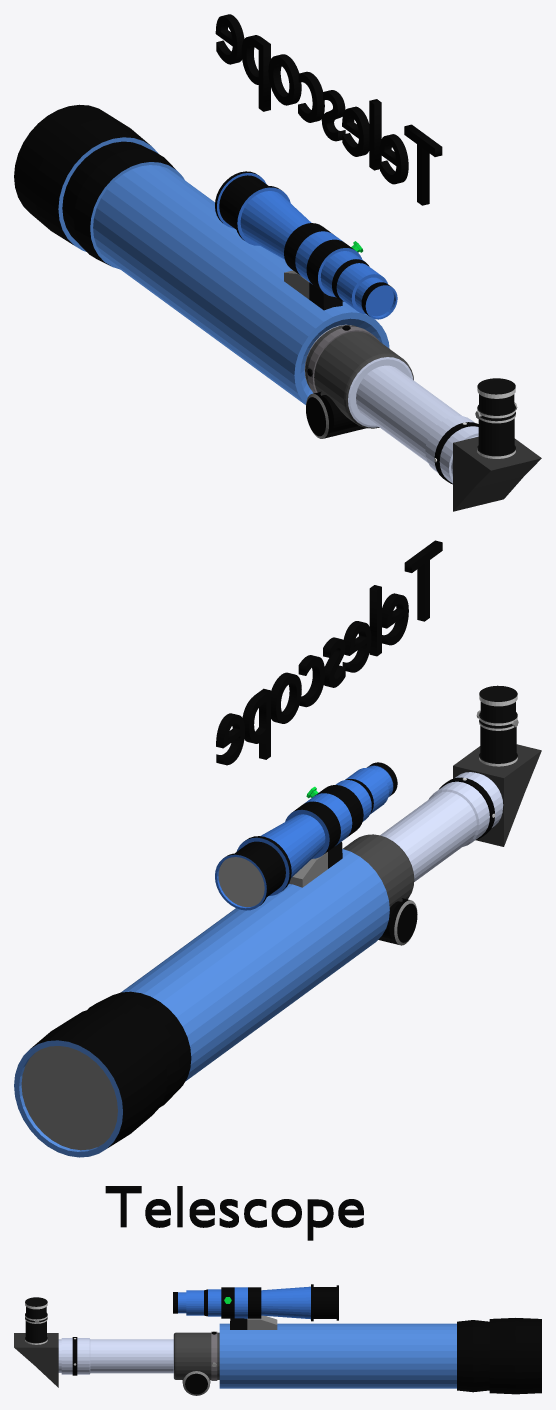
File: Telescope.gltf
3 renders of one model, top to bottom at view 1: azimuth 30°, elevation 25°; view 2: azimuth 150°, elevation 25°; view 3: azimuth 270°, elevation 25°, orthographic. The views are drawn at different scales.
Visible parts, largest first — view 1: Cylinder, Cylinder.002, Cylinder.001, Text, Cube.002, Cylinder.004, Cylinder.003, Circle.001; view 2: Cylinder, Cylinder.001, Text, Cylinder.002, Cube.002, Cylinder.004, Cylinder.003; view 3: Cylinder, Cylinder.002, Cylinder.001, Text, Cube.002, Cylinder.004, Cylinder.003, Cube, Circle.001.
Part boxes in pixels (left/top/right/bottom): Cylinder: left=14, top=104, right=389, bottom=404; Cylinder.002: left=304, top=324, right=478, bottom=483; Cylinder.001: left=215, top=171, right=397, bottom=319; Text: left=215, top=14, right=442, bottom=205; Cube.002: left=453, top=436, right=541, bottom=511; Cylinder.004: left=477, top=378, right=515, bottom=458; Cylinder.003: left=306, top=391, right=366, bottom=438; Circle.001: left=307, top=326, right=379, bottom=393; Cylinder: left=14, top=849, right=389, bottom=1157; Cylinder.001: left=215, top=762, right=397, bottom=910; Text: left=216, top=540, right=442, bottom=765; Cylinder.002: left=343, top=772, right=503, bottom=907; Cube.002: left=453, top=744, right=541, bottom=846; Cylinder.004: left=479, top=685, right=517, bottom=766; Cylinder.003: left=378, top=898, right=417, bottom=945; Cylinder: left=219, top=1318, right=541, bottom=1394; Cylinder.002: left=58, top=1332, right=219, bottom=1379; Cylinder.001: left=173, top=1284, right=338, bottom=1321; Text: left=105, top=1186, right=363, bottom=1240; Cube.002: left=14, top=1333, right=58, bottom=1387; Cylinder.004: left=25, top=1297, right=47, bottom=1344; Cylinder.003: left=182, top=1371, right=210, bottom=1395; Cube: left=247, top=1315, right=277, bottom=1329; Circle.001: left=211, top=1331, right=217, bottom=1380.
Bounding box in the file's own units: 0.4862 × 1.43 × 3.35.
